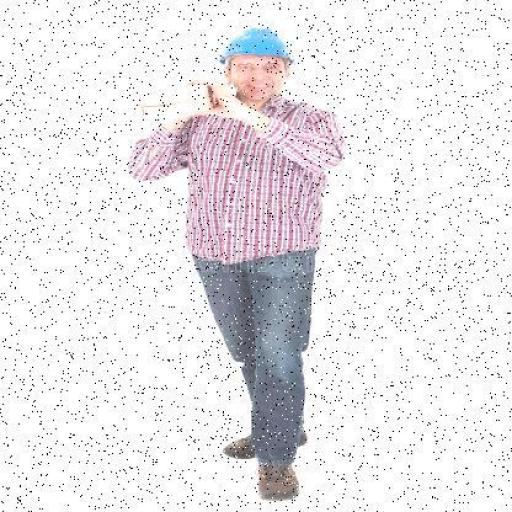person: (142, 22, 344, 496)
safety_shoe: (218, 424, 311, 458), (258, 458, 298, 498)
